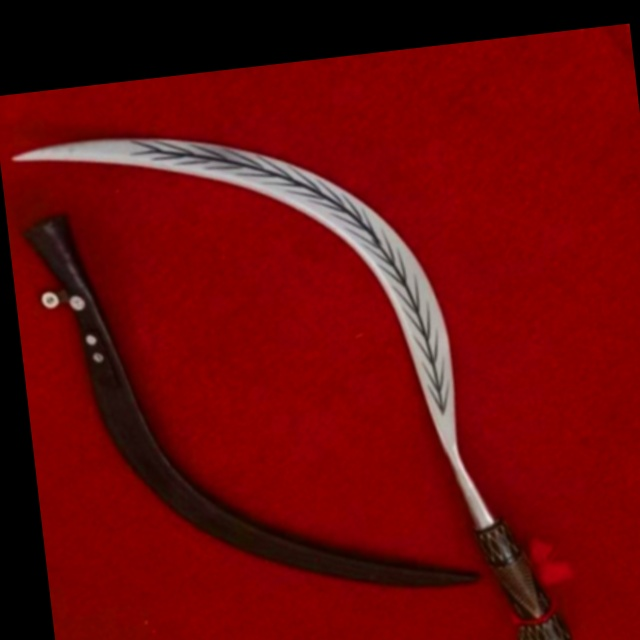Sharp-Object: (0, 37, 581, 640)
